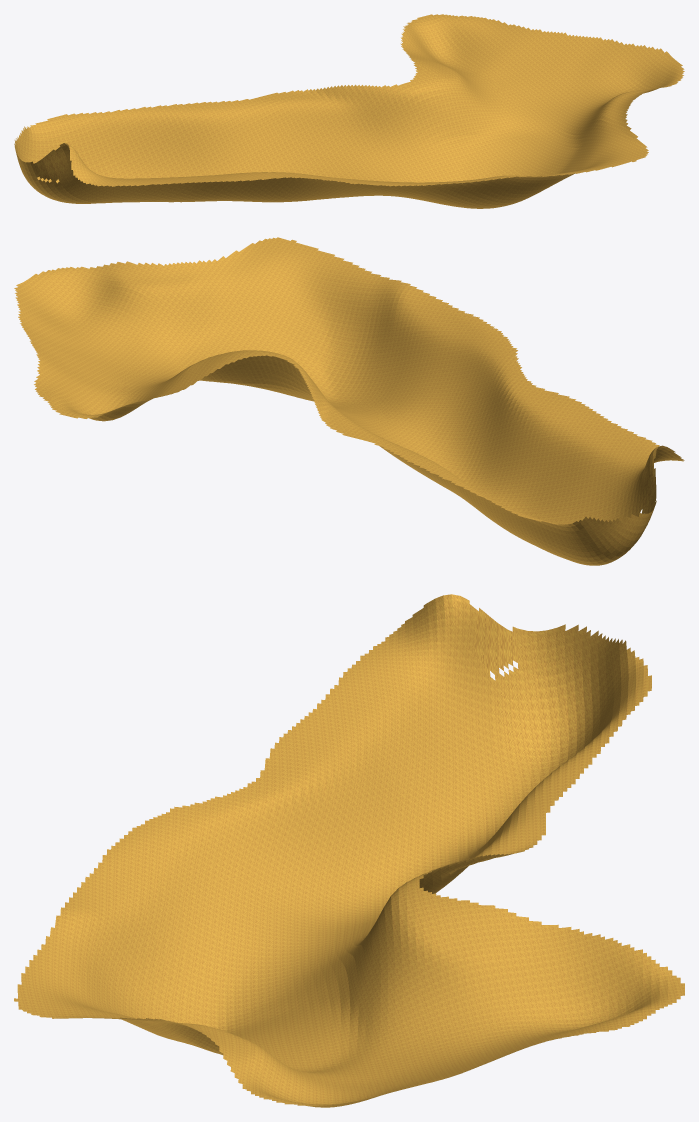
Rendered from SAND.obj.
3 renders of one model, top to bottom at view 1: azimuth 30°, elevation 25°; view 2: azimuth 150°, elevation 25°; view 3: azimuth 270°, elevation 25°, orthographic. The views are drawn at different scales.
Parts seen in each view (by area): view 1: Nisip; view 2: Nisip; view 3: Nisip.
Part boxes in pixels (left/top/right/bottom): Nisip: left=14, top=14, right=684, bottom=208; Nisip: left=14, top=237, right=684, bottom=565; Nisip: left=14, top=594, right=684, bottom=1107.
Size of the model in its own units: 36.78 by 5.63 by 21.67.
1 material, 1 textured.
